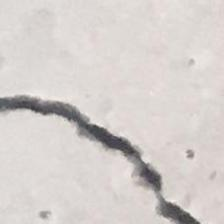Crack: (0, 85, 200, 224)
